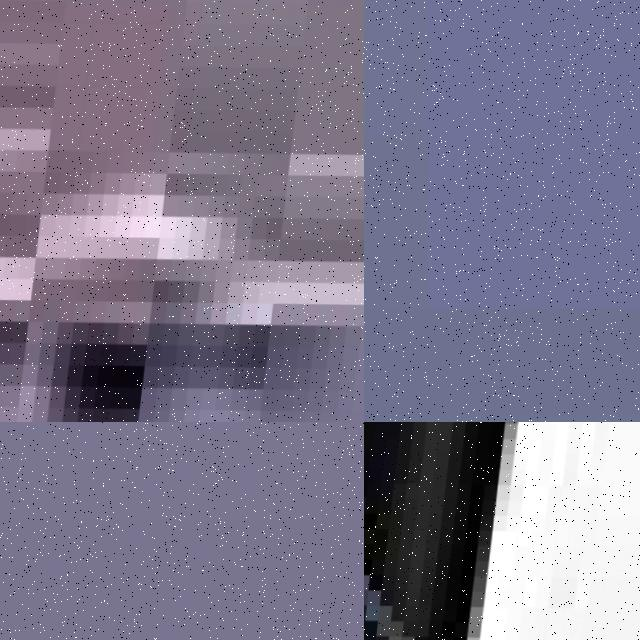0: (0, 0, 364, 422)
drone: (364, 422, 640, 640)
